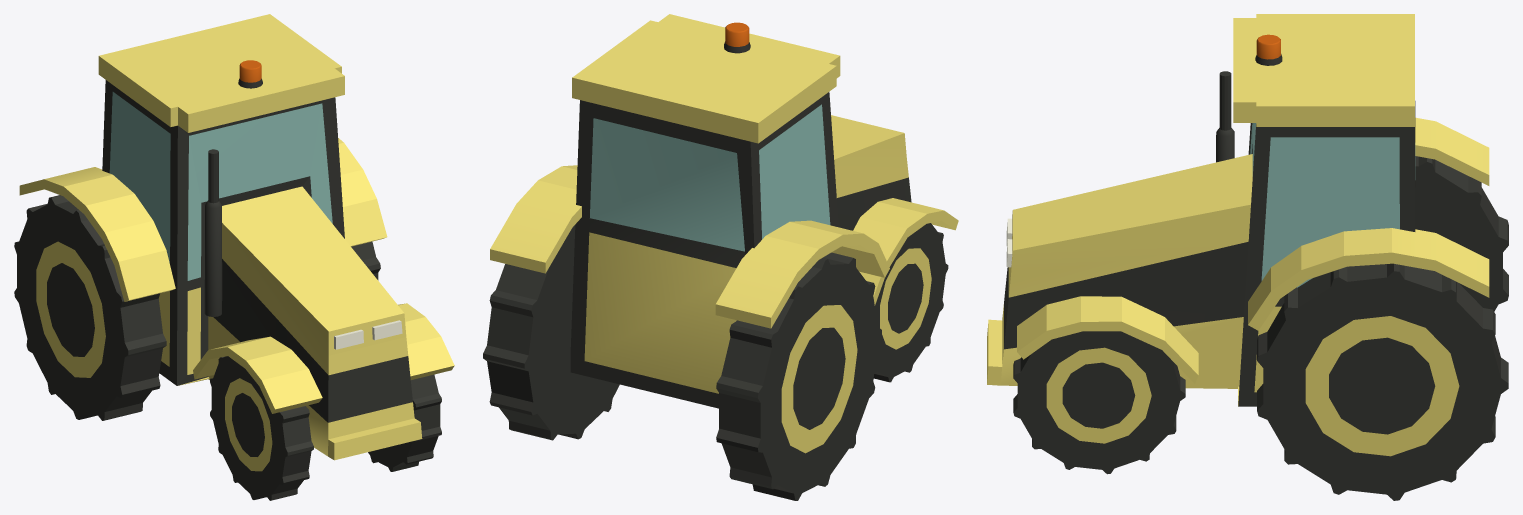
The model's file is Tractor.FBX.
The picture shows the model from 3 angles, left to right: view 1: azimuth 30°, elevation 25°; view 2: azimuth 150°, elevation 25°; view 3: azimuth 270°, elevation 25°; orthographic projection. The views are drawn at different scales.
Visible parts, largest first — view 1: tractor; view 2: tractor; view 3: tractor.
Part boxes in pixels (bbox=[...]): tractor: bbox=[14, 14, 454, 500]; tractor: bbox=[483, 14, 958, 500]; tractor: bbox=[987, 14, 1508, 500].
Size of the model in its own units: 14.9 by 19.69 by 23.62.
Materials: 1 (1 with a texture image).
